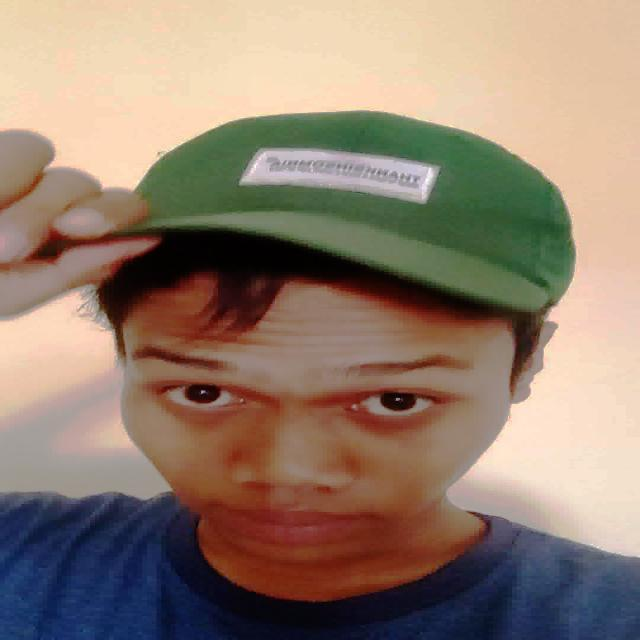TOPI: (61, 100, 580, 326)
